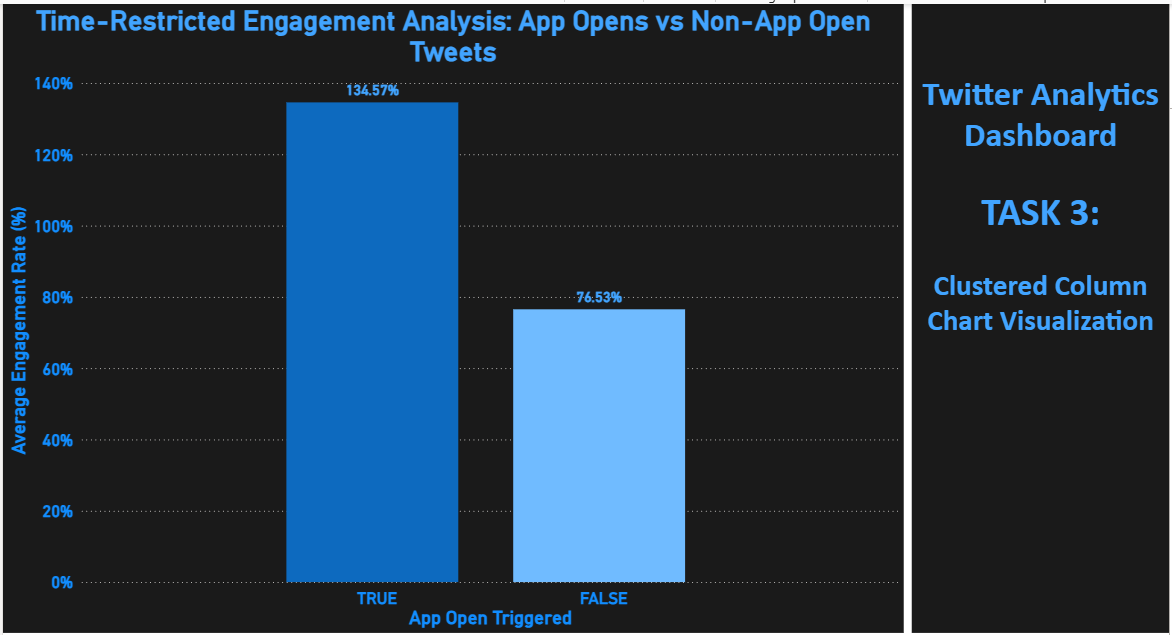

Layout of this report page (visuals, bound fields, positions):
{"tool":"powerbi","page":{"name":"Task3","canvas":[1280,720],"ordinal":3},"visuals":[{"type":"clusteredColumnChart","title":"Time-Restricted Engagement Analysis: App Opens vs Non-App Open Tweets","fields":{"Category":["SocialMedia (6).Has App Open"],"Y":["Sum(SocialMedia (6).engagement rate)"]},"box":[0,0,988.6,690],"z":0},{"type":"textbox","box":[997.1,0,282.9,690],"z":1000}]}

Visuals, with their boxes on the page's 1280x720 design canvas (x1, y1, x2, y2). These are canvas units, not pixel positions in the 1172x635 screenshot, which may show the page scaled, cropped or inside an application window:
"Time-Restricted Engagement Analysis: App Opens vs Non-App Open Tweets" clusteredColumnChart: [0,0,989,690]
textbox: [997,0,1280,690]
